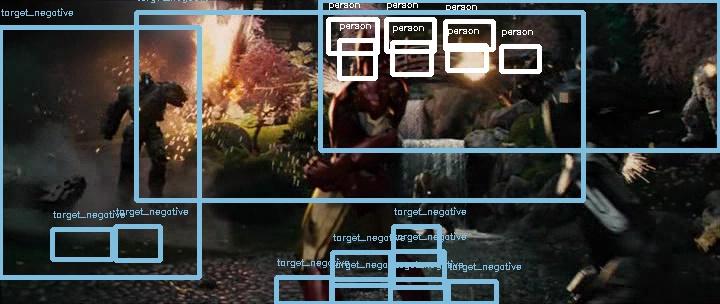person: (346, 24, 394, 75), (345, 24, 393, 75), (347, 24, 395, 75), (346, 23, 394, 74), (346, 25, 394, 76)
target_negative: (72, 18, 497, 172), (320, 231, 581, 270), (271, 205, 381, 271), (63, 80, 184, 132), (350, 230, 601, 251), (544, 270, 551, 302)
